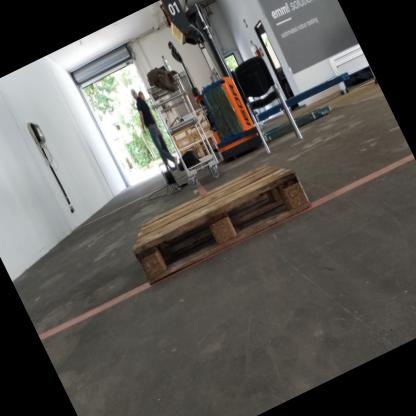BoxFace: (132, 157, 318, 292)
